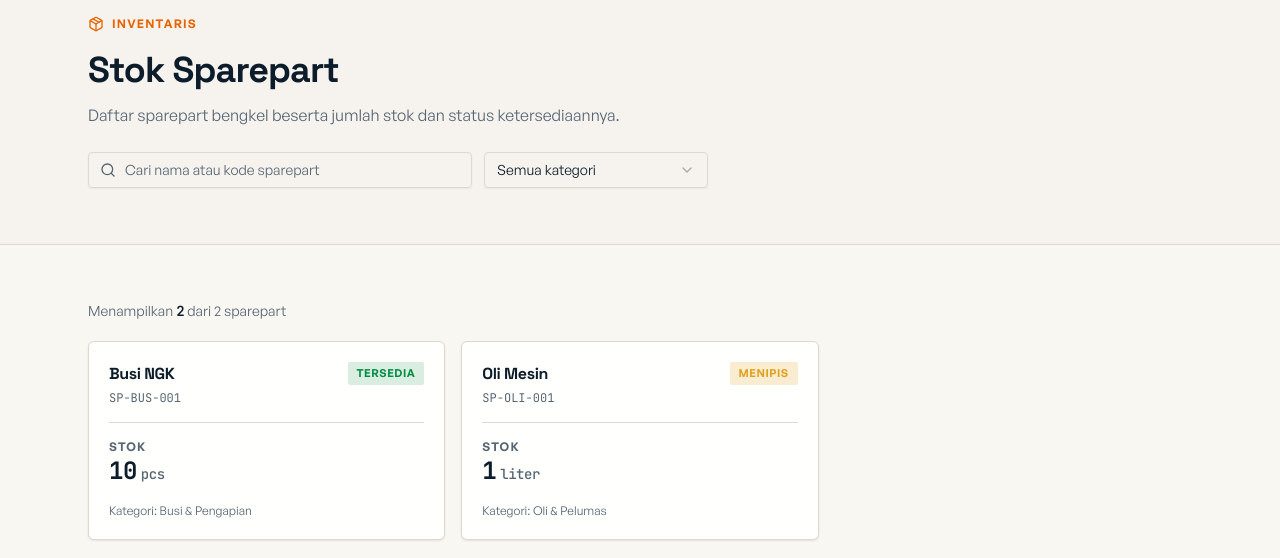
Sparepart list › renders the list and filters by search text
Check: the heading "Busi NGK" is shown, box [109,362,181,386]
Check: the heading "Oli Mesin" is shown, box [482,362,554,386]
Type "Oli" into the search field with test id "sparepart.search_input".
click(280, 170); type("Oli")  # box [88,152,472,188]
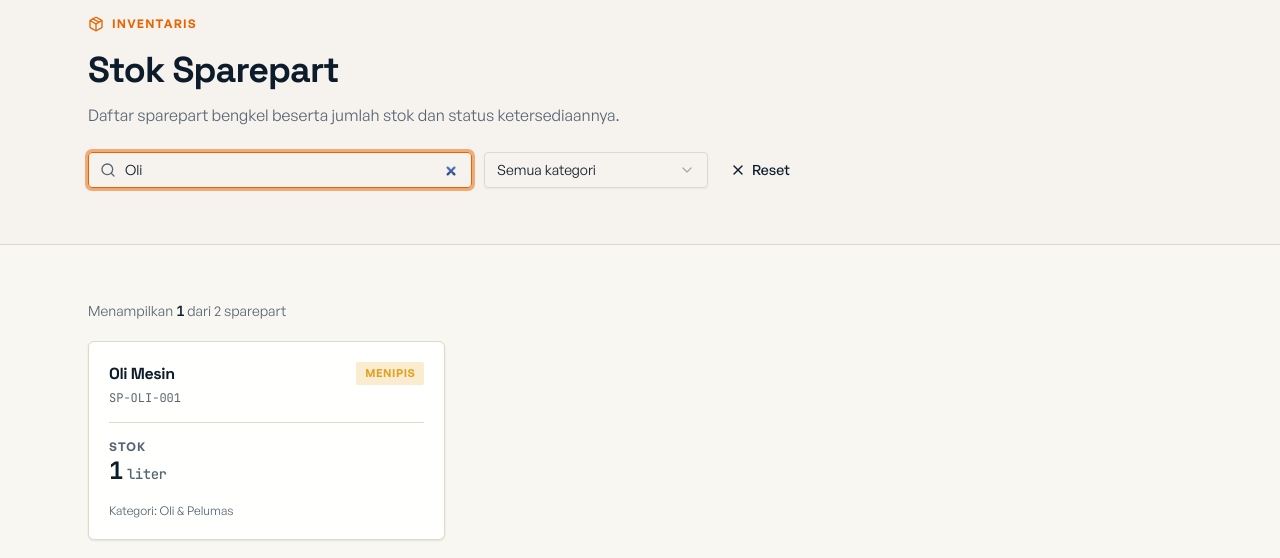
Check: the heading "Oli Mesin" is shown, box [109,362,181,386]
Check: the link "Busi NGK" is gone
